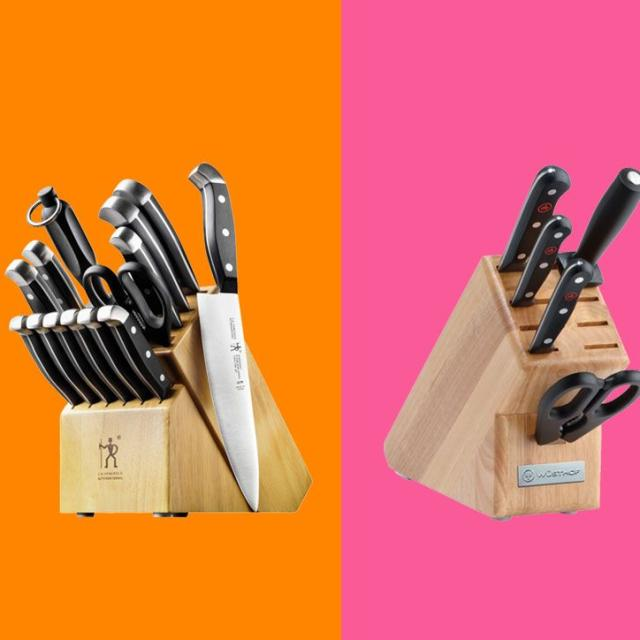Weapon: (189, 164, 258, 510)
